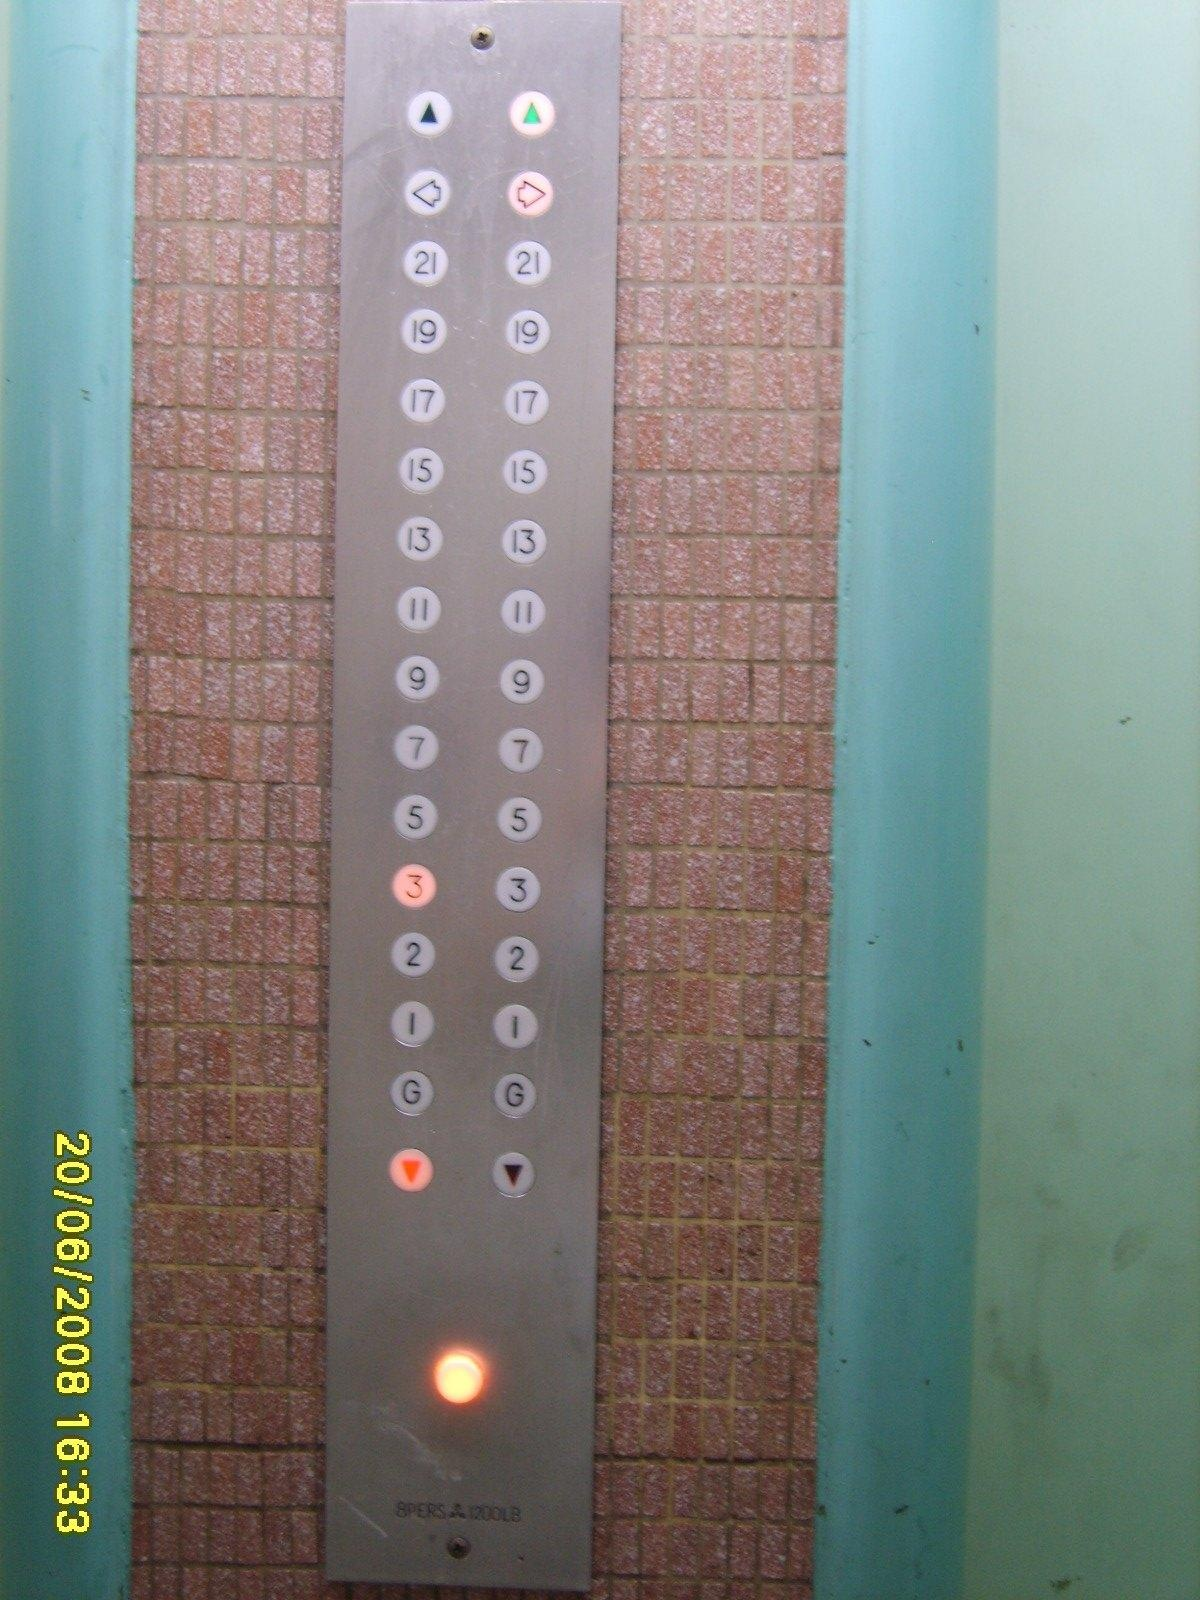1: (489, 999, 545, 1054), (384, 995, 439, 1051)
11: (392, 580, 447, 636), (495, 585, 551, 640)
13: (392, 511, 447, 568), (497, 514, 552, 569)
15: (395, 443, 450, 499), (497, 443, 552, 499)
17: (395, 373, 450, 430), (498, 374, 553, 430)
19: (499, 304, 555, 360), (396, 304, 451, 359)
2: (386, 925, 441, 981), (489, 931, 545, 986)
21: (500, 234, 556, 290), (398, 234, 453, 290)
3: (386, 859, 441, 915), (492, 860, 546, 917)
5: (492, 790, 547, 847), (388, 789, 442, 845)
7: (494, 723, 550, 779), (389, 719, 444, 775)
9: (389, 650, 445, 706), (495, 653, 550, 708)
G: (487, 1068, 542, 1124), (384, 1065, 439, 1121)
down: (487, 1146, 541, 1203), (384, 1143, 439, 1199)
empty: (430, 1351, 488, 1409)
unknown: (400, 163, 455, 219), (503, 165, 558, 220)
up: (402, 87, 458, 144), (504, 86, 558, 142)
